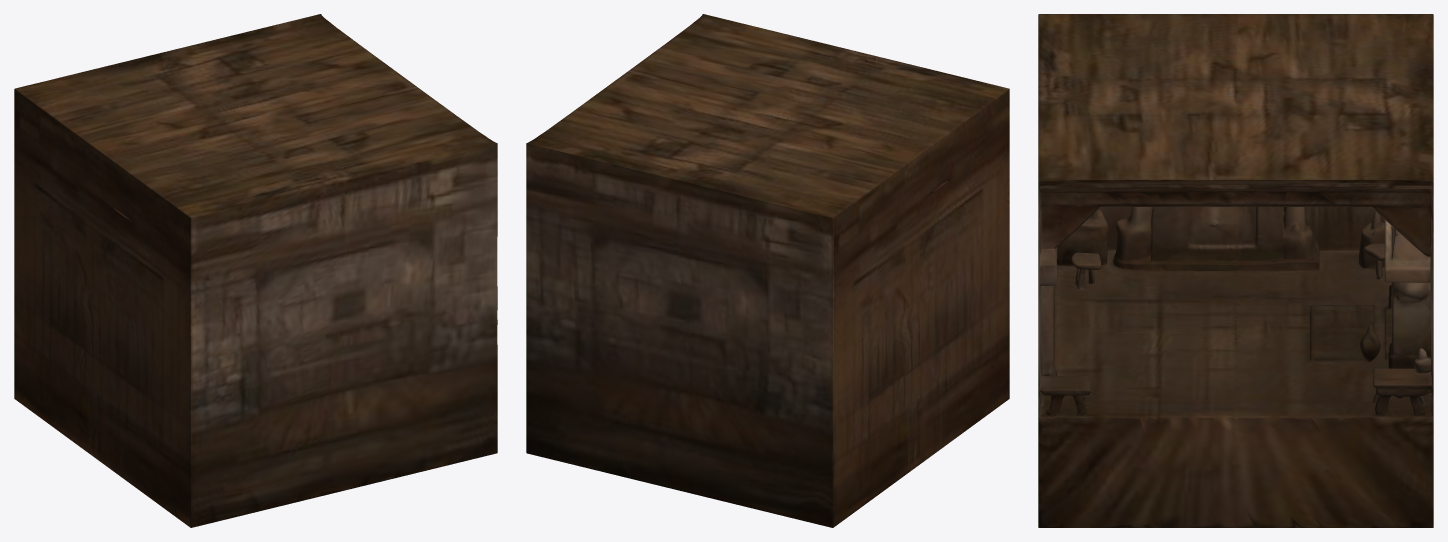
The model's file is 建筑室内.glb.
The picture shows the model from 3 angles, left to right: view 1: azimuth 30°, elevation 25°; view 2: azimuth 150°, elevation 25°; view 3: azimuth 270°, elevation 25°; orthographic projection. The views are drawn at different scales.
Visible parts, largest first — view 1: tripo_node_b3e22b94-e043-475c-bb3d-e881f79e9093; view 2: tripo_node_b3e22b94-e043-475c-bb3d-e881f79e9093; view 3: tripo_node_b3e22b94-e043-475c-bb3d-e881f79e9093.
Boxes of the visible parts, x1,y1,x2,y2 form: tripo_node_b3e22b94-e043-475c-bb3d-e881f79e9093: (14,14,497,527); tripo_node_b3e22b94-e043-475c-bb3d-e881f79e9093: (526,14,1009,527); tripo_node_b3e22b94-e043-475c-bb3d-e881f79e9093: (1038,14,1433,527).
Bounding box in the file's own units: 0.9999 × 0.9661 × 0.9976.
1 material, 1 textured.
